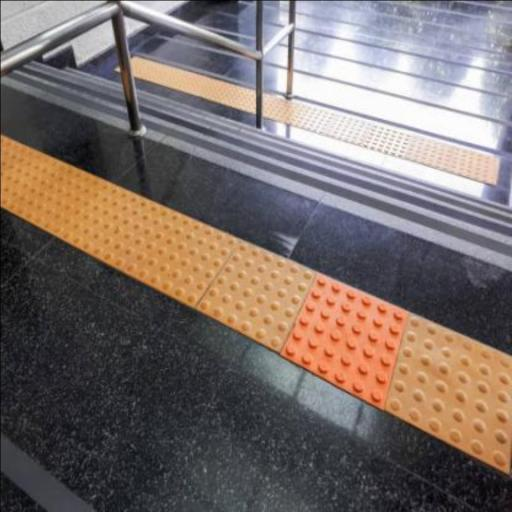dot: (384, 318, 510, 476), (280, 275, 409, 409), (194, 239, 318, 353), (117, 206, 240, 306), (54, 181, 166, 267), (3, 161, 102, 231)
